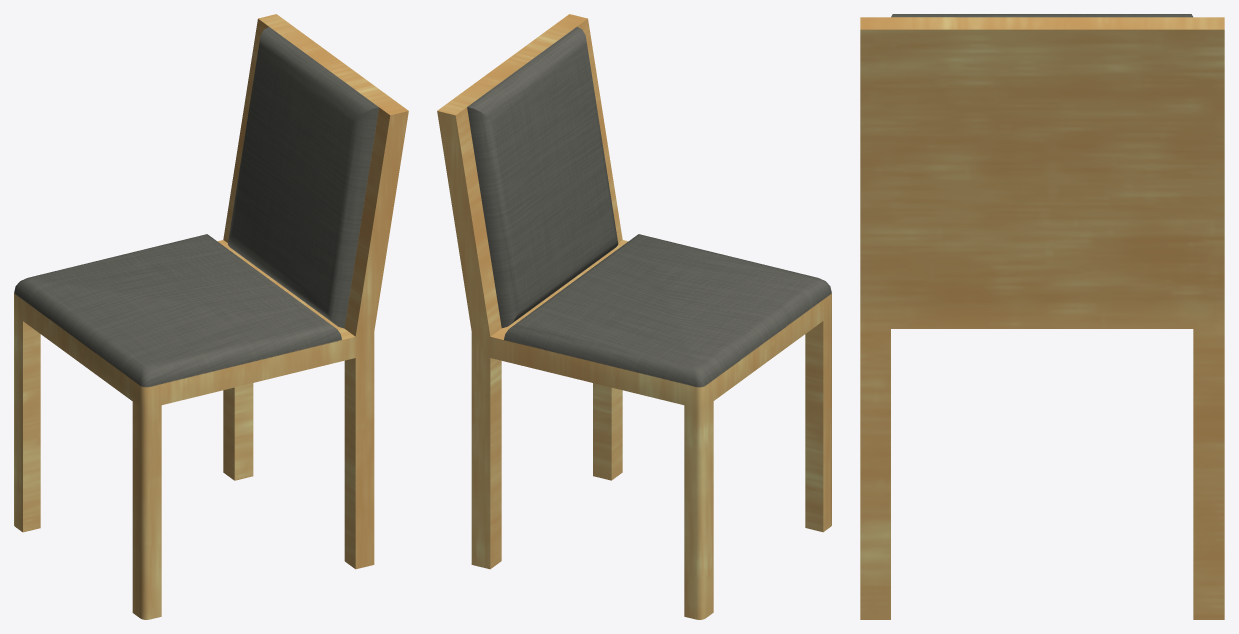
Rendered from chair.fbx.
3 views of the same model, side by side, from view 1: azimuth 30°, elevation 25°; view 2: azimuth 150°, elevation 25°; view 3: azimuth 270°, elevation 25° (orthographic). The views are drawn at different scales.
Parts seen in each view (by area): view 1: BedRoomChair; view 2: BedRoomChair; view 3: BedRoomChair.
Boxes of the visible parts, bbox=[...] form: BedRoomChair: bbox=[14, 14, 408, 619]; BedRoomChair: bbox=[437, 14, 831, 619]; BedRoomChair: bbox=[860, 14, 1224, 619].
Size of the model in its own units: 84.69 by 136 by 73.25.
